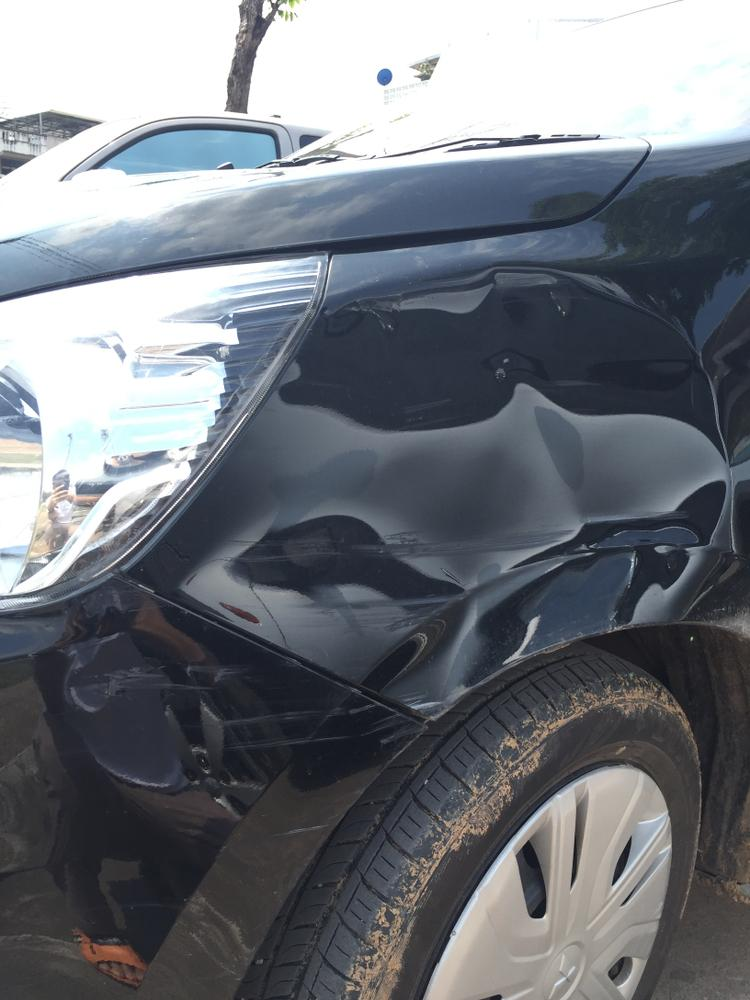dent: (123, 268, 727, 724), (59, 632, 231, 792)
